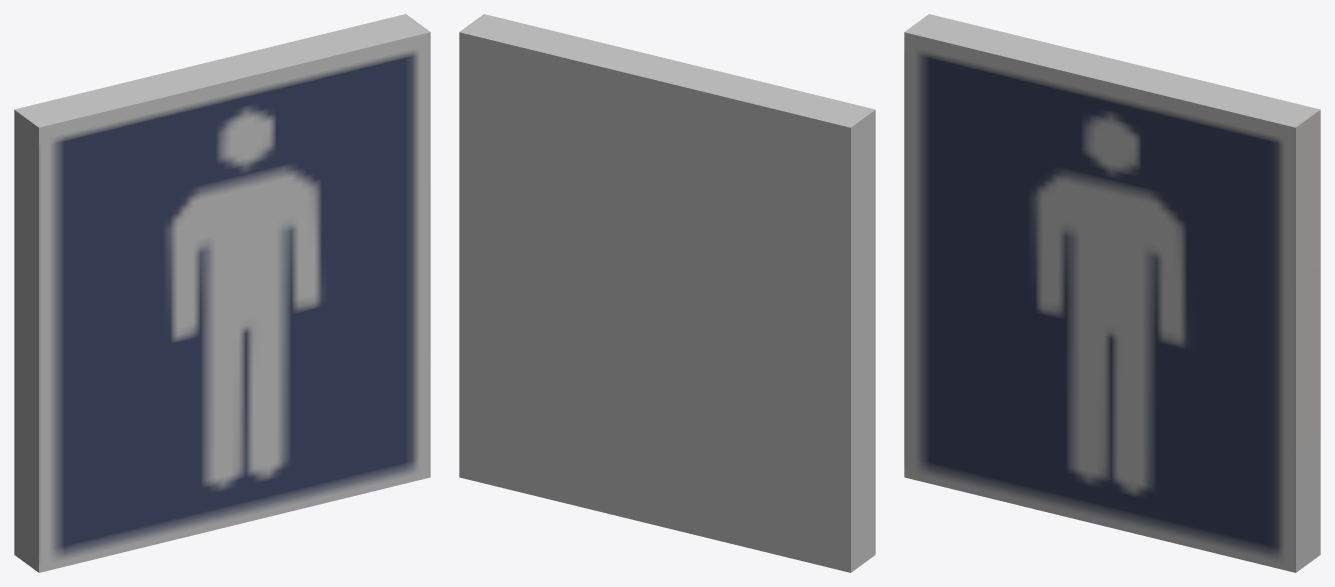
The model's file is SM_Prop_Sign_Toilets_Male_01.glb.
3 views of the same model, side by side, from view 1: azimuth 30°, elevation 25°; view 2: azimuth 150°, elevation 25°; view 3: azimuth 330°, elevation 25° (orthographic).
Parts seen in each view (by area): view 1: SM_Prop_Sign_Toilets_Male_01; view 2: SM_Prop_Sign_Toilets_Male_01; view 3: SM_Prop_Sign_Toilets_Male_01.
Part boxes in pixels (x1=…): SM_Prop_Sign_Toilets_Male_01: x1=14, y1=14, x2=430, y2=572; SM_Prop_Sign_Toilets_Male_01: x1=459, y1=14, x2=875, y2=572; SM_Prop_Sign_Toilets_Male_01: x1=904, y1=14, x2=1320, y2=572.
Size of the model in its own units: 0.2401 by 0.2608 by 0.0264.
Materials: 1 (1 with a texture image).
